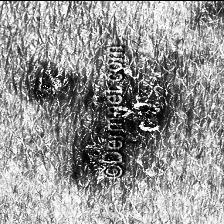Toxin: (74, 97, 162, 177)
